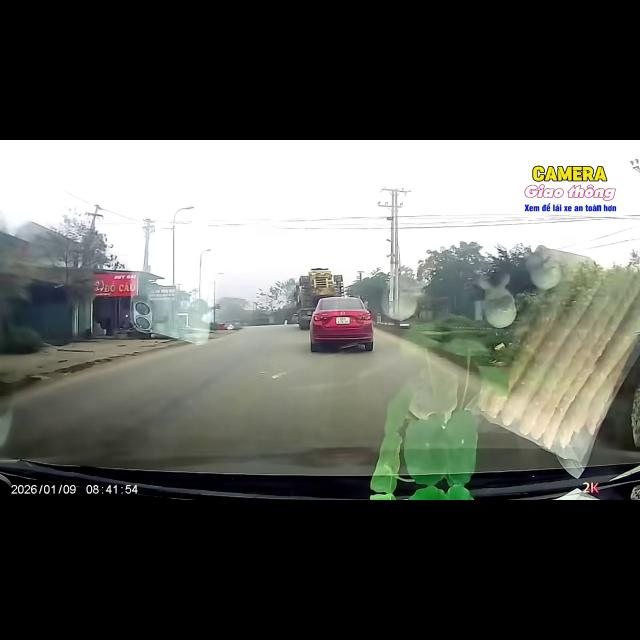car: (310, 297, 373, 352)
truck: (296, 268, 344, 329)
